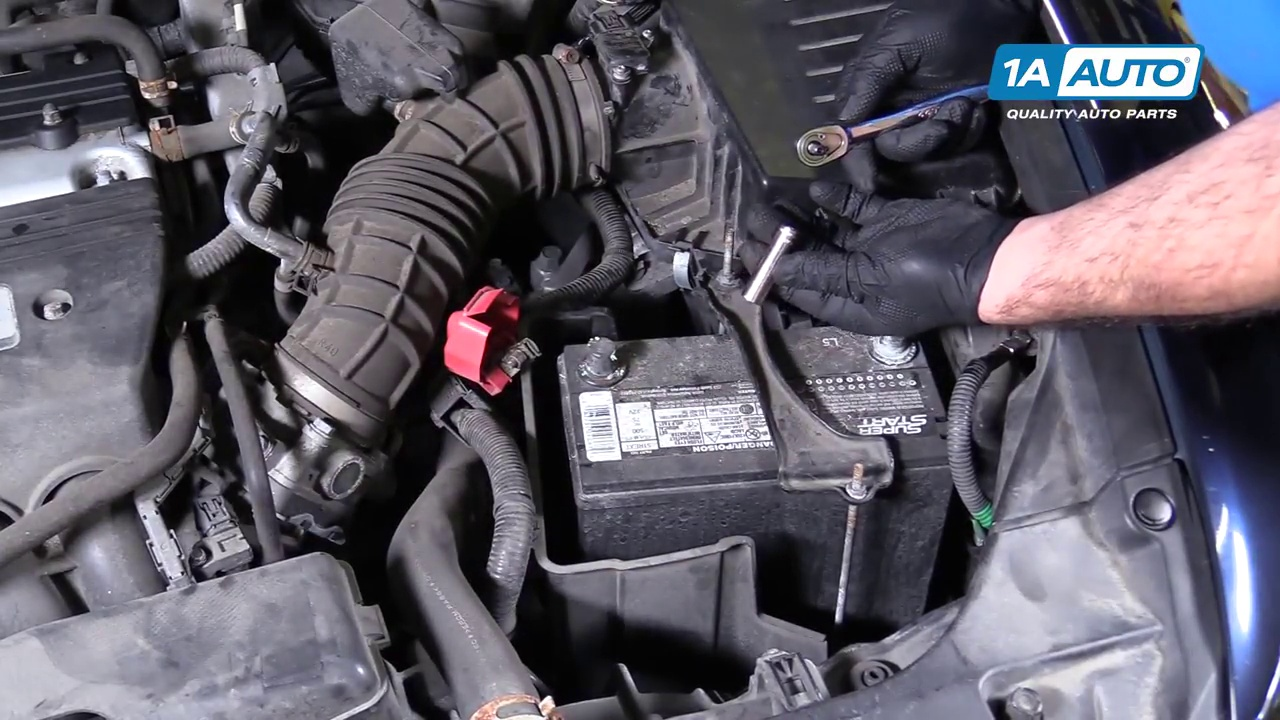battery: (556, 315, 953, 489)
neg_touched: (846, 263, 937, 405)
pos_disconnected: (467, 278, 642, 418)
